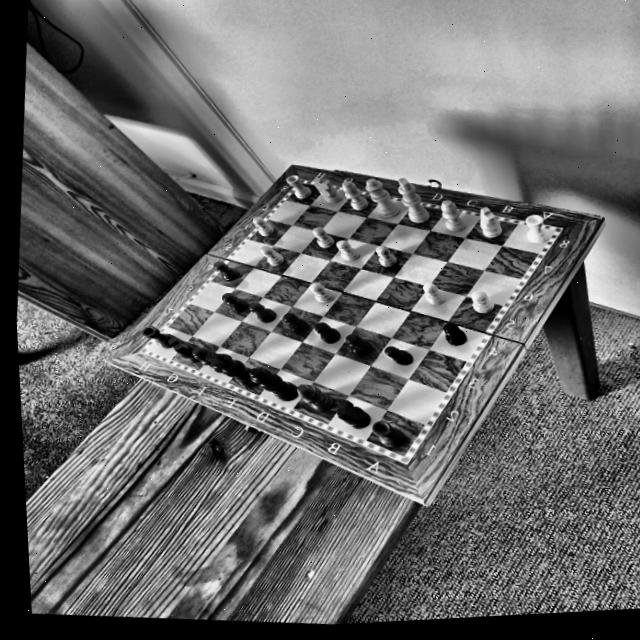black-bishop: (293, 376, 338, 419), (189, 341, 224, 376)
black-king: (201, 344, 262, 397)
black-knight: (164, 332, 206, 366), (332, 397, 370, 432)
black-pawn: (216, 285, 250, 321), (378, 342, 417, 373), (278, 308, 313, 339), (343, 330, 376, 362), (247, 298, 279, 330), (208, 257, 242, 287), (312, 319, 341, 349), (439, 320, 465, 352)
black-queen: (245, 363, 303, 408)
black-rook: (366, 415, 409, 456), (140, 321, 174, 356)
white-bishop: (435, 196, 468, 237), (337, 178, 370, 216)
white-king: (391, 172, 433, 232)
white-knight: (469, 202, 502, 246), (307, 171, 343, 210)
white-pawn: (251, 240, 287, 272), (465, 287, 496, 320), (417, 279, 448, 310), (332, 237, 361, 267), (305, 280, 336, 306), (311, 225, 335, 256), (247, 214, 273, 241), (372, 244, 398, 271)
white-queen: (358, 174, 402, 223)
white-rook: (515, 208, 555, 253), (283, 171, 311, 206)
